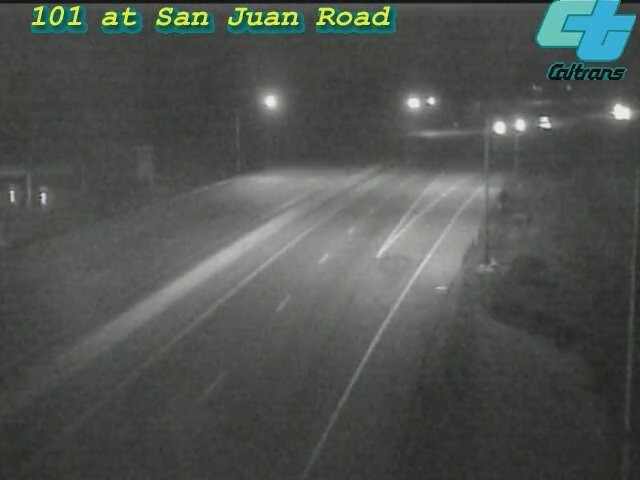vehicle: (520, 98, 570, 148), (475, 103, 525, 153), (493, 100, 543, 150), (592, 86, 640, 136), (606, 88, 640, 138)
